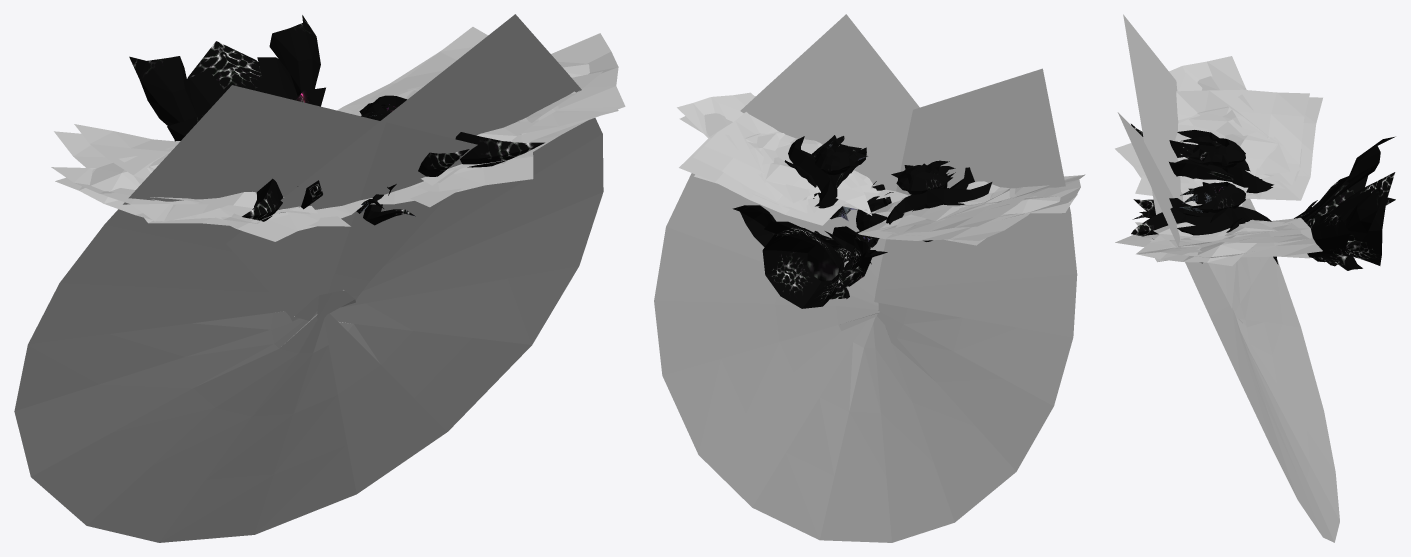
The model's file is boss_guangyao2.obj.
3 views of the same model, side by side, from view 1: azimuth 30°, elevation 25°; view 2: azimuth 150°, elevation 25°; view 3: azimuth 270°, elevation 25° (orthographic). The views are drawn at different scales.
Parts seen in each view (by area): view 1: A02_gy, boss_guangyao2_jingti#1, cb_Alpha#0, cb_01#1, cb_07#1, cb_04#1, cb_03#1, cb_05#1, boss_guangyao2#2; view 2: A02_gy, boss_guangyao2_jingti#1, cb_01#1, cb_Alpha#0, cb_03#1, cb_07#1, cb_04#1, cb_05#1; view 3: A02_gy, boss_guangyao2_jingti#1, cb_04#1, cb_Alpha#0, cb_07#1, cb_03#1, cb_01#1, cb_05#1, boss_guangyao2#2, cb_06#1.
Part boxes in pixels (x1,y1,x2,y2): A02_gy: (14, 14, 603, 542); boss_guangyao2_jingti#1: (129, 15, 544, 225); cb_Alpha#0: (54, 50, 587, 241); cb_01#1: (350, 27, 625, 182); cb_07#1: (55, 147, 283, 222); cb_04#1: (74, 124, 310, 219); cb_03#1: (358, 61, 618, 141); cb_05#1: (51, 167, 260, 223); boss_guangyao2#2: (212, 24, 414, 216); A02_gy: (654, 14, 1077, 542); boss_guangyao2_jingti#1: (732, 135, 992, 308); cb_01#1: (677, 92, 873, 213); cb_Alpha#0: (679, 138, 1029, 240); cb_03#1: (679, 96, 871, 215); cb_07#1: (867, 175, 1079, 227); cb_04#1: (881, 185, 1049, 232); cb_05#1: (871, 174, 1085, 218); A02_gy: (1117, 14, 1339, 542); boss_guangyao2_jingti#1: (1131, 124, 1395, 270); cb_04#1: (1176, 89, 1309, 185); cb_Alpha#0: (1115, 97, 1322, 262); cb_07#1: (1175, 76, 1290, 206); cb_03#1: (1136, 219, 1290, 265); cb_01#1: (1136, 223, 1309, 257); cb_05#1: (1169, 56, 1246, 91); boss_guangyao2#2: (1139, 182, 1381, 240); cb_06#1: (1180, 149, 1301, 205).
Size of the model in its own units: 405 by 406 by 231.
